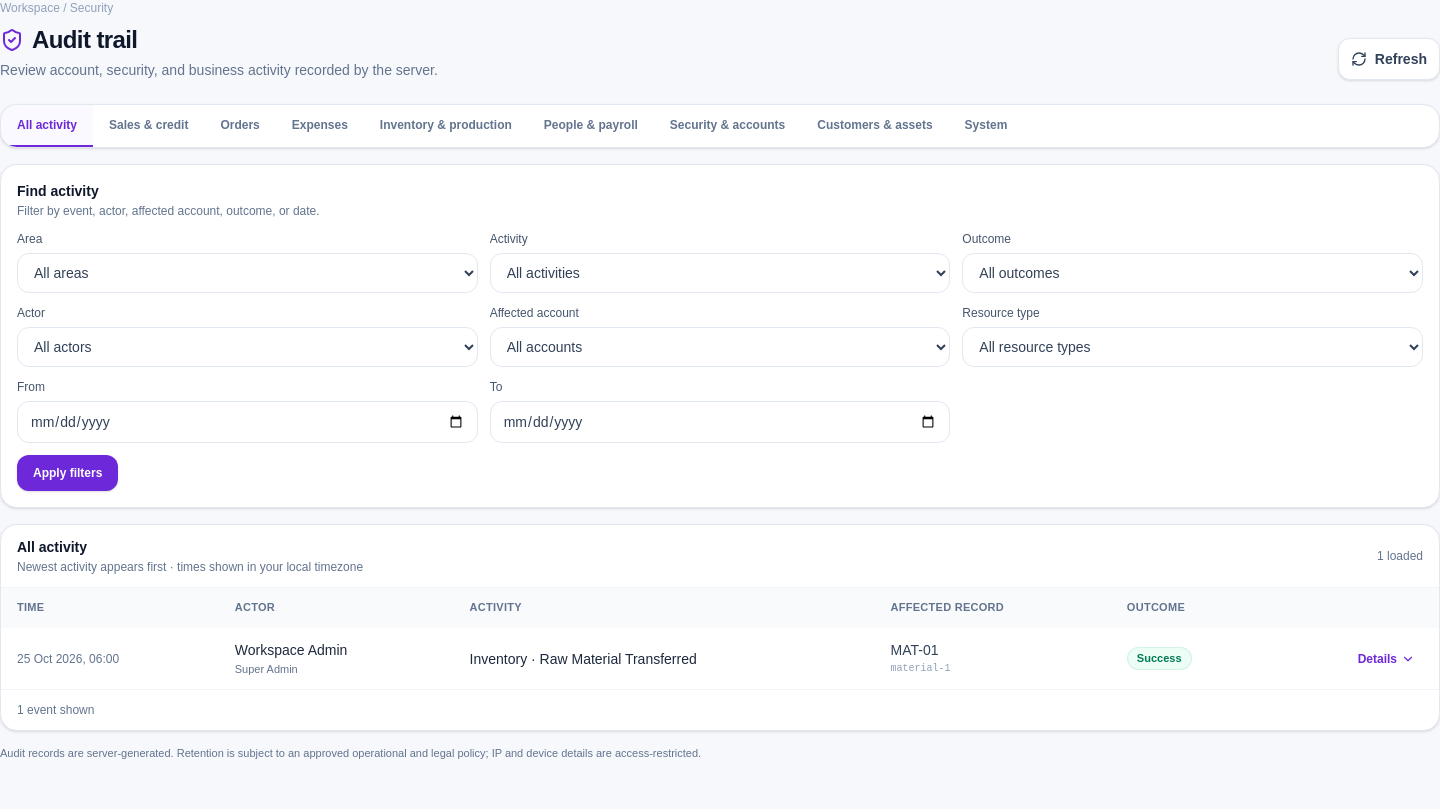
Test: audit workspace › loads server event types and global events, then reveals event details
The image size is (1440, 809).
Expected: the text "MAT-01" is shown, x1=890 y1=642 x2=938 y2=658
Expected: the text "Workspace Admin" is shown, x1=235 y1=642 x2=347 y2=658
What coordinates should you click on to do the following:
click the button "Details"
I would click on:
 (1386, 658)
Its box is x1=1350 y1=644 x2=1423 y2=672.
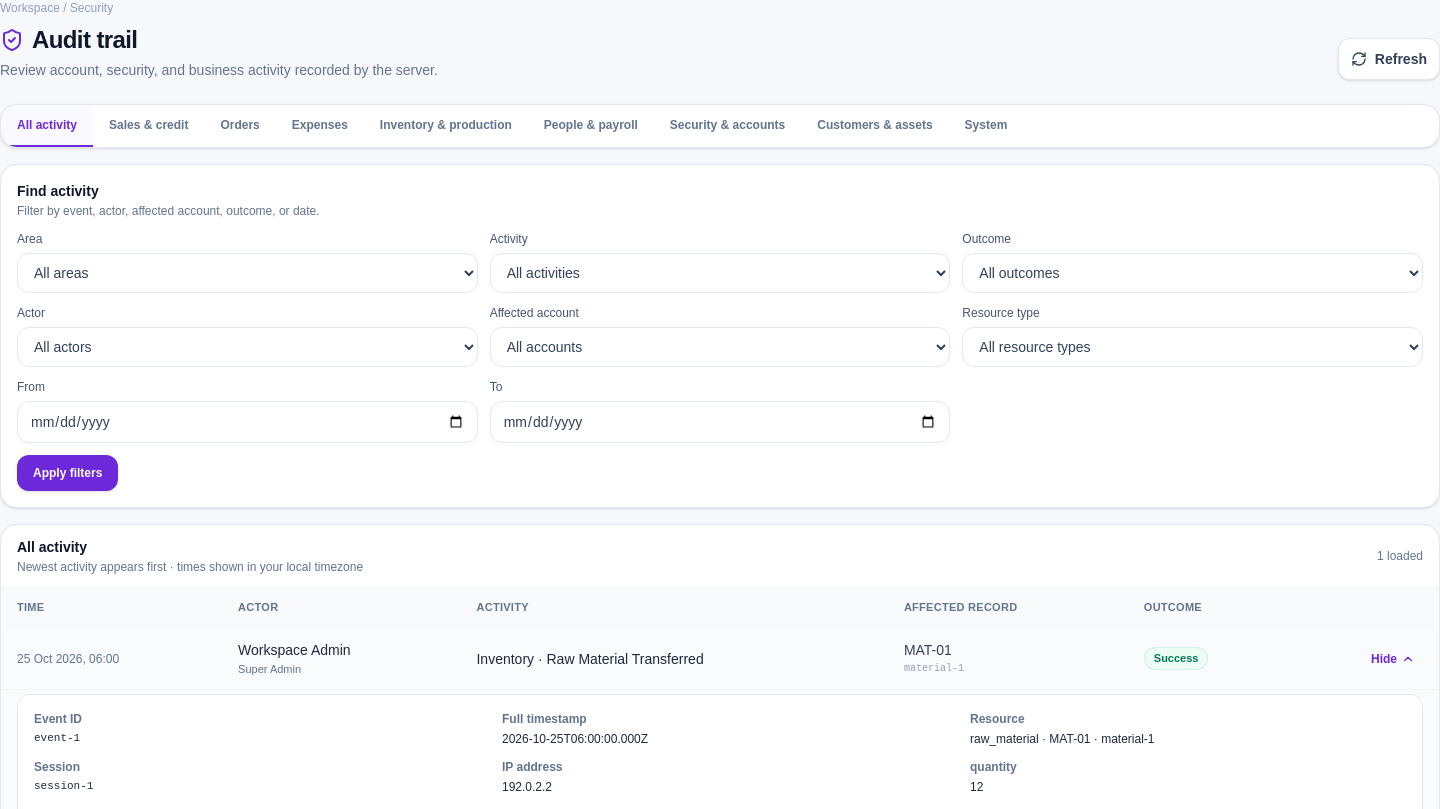
Expected: the text "material-1" is shown, x1=904 y1=663 x2=964 y2=674
Expected: the text "192.0.2.2" is shown, x1=502 y1=780 x2=552 y2=794
Expected: the text "12" is shown, x1=970 y1=780 x2=983 y2=794
